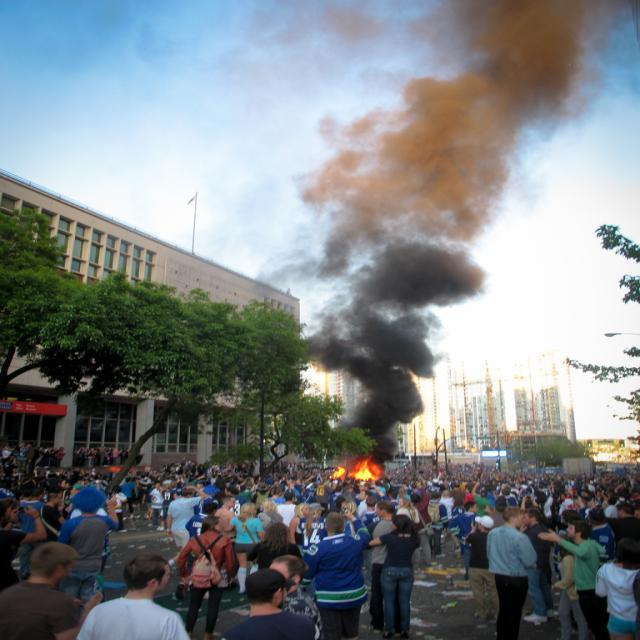Fire: (334, 458, 386, 478)
Smoke: (338, 233, 433, 389)
